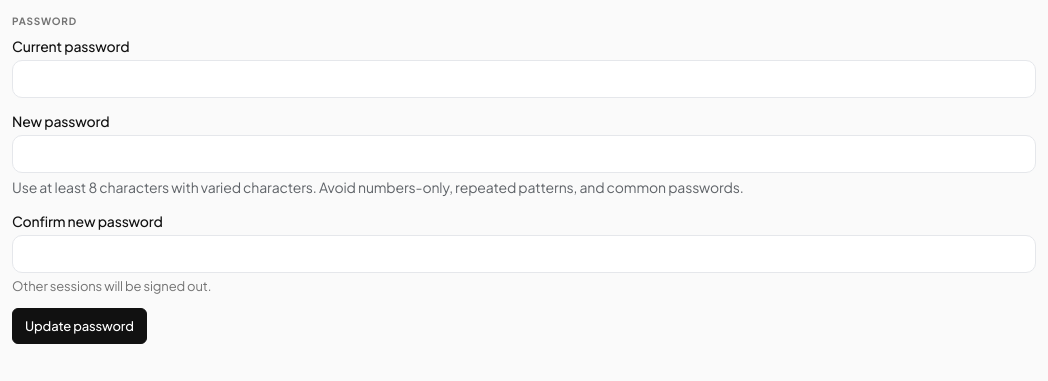
Test: ChangePasswordForm › updates the password when the form is valid
The image size is (1048, 381).
Type "oldpassword" into the password field labelled "Current password". click: [524, 79]
box: [12,60,1036,98]
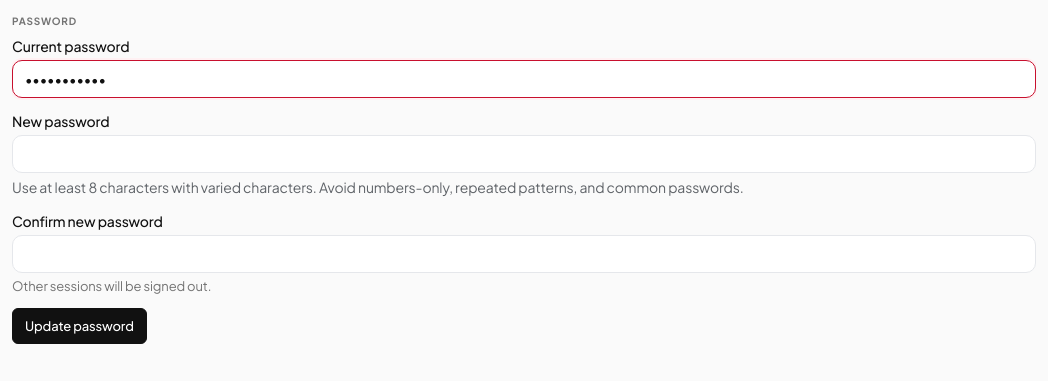
Type "river-canyon-9" into the password field labelled "New password". click: [524, 154]
box: [12,135,1036,173]
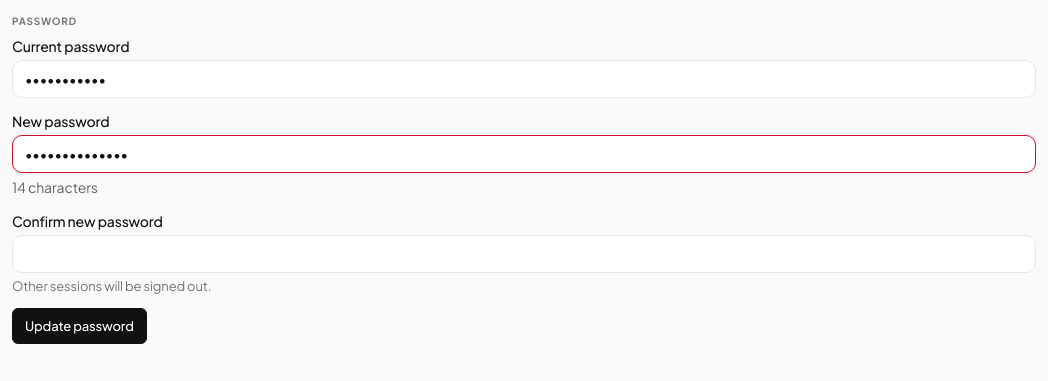
Type "river-canyon-9" into the password field labelled "Confirm new password". click: [524, 254]
box: [12,235,1036,273]
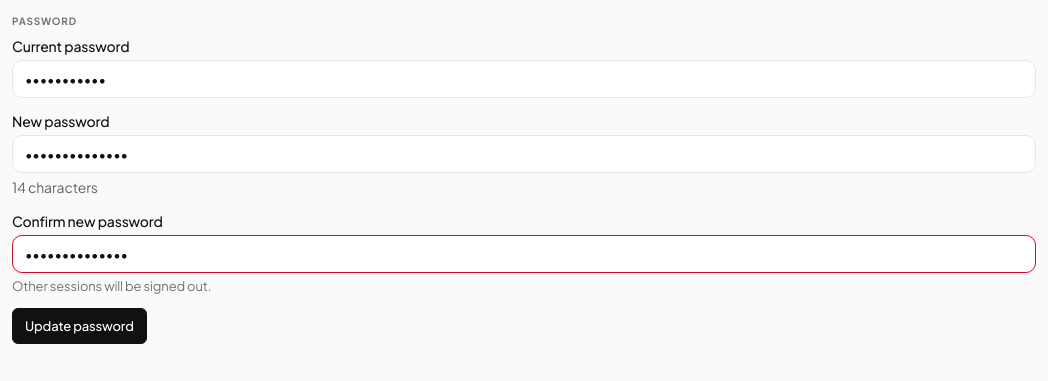
Click the button "Update password". click: [79, 326]
box: [12,308,147,344]
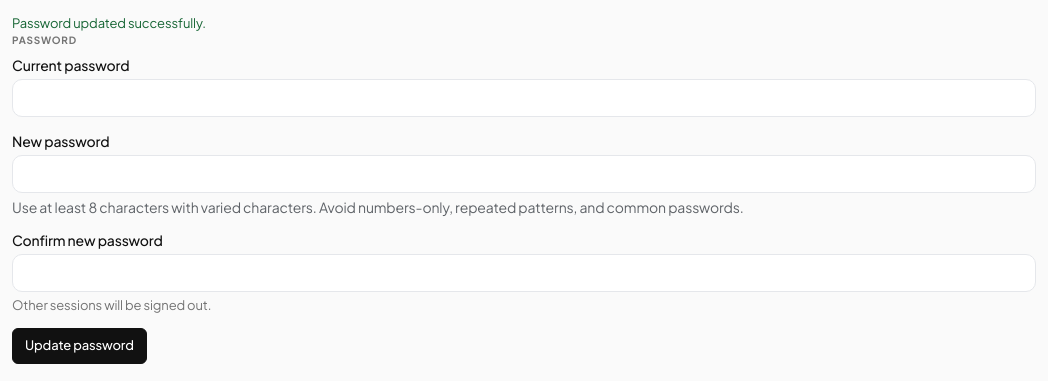
Result: the text "Password updated successfully." is shown at [12,15,206,31]
